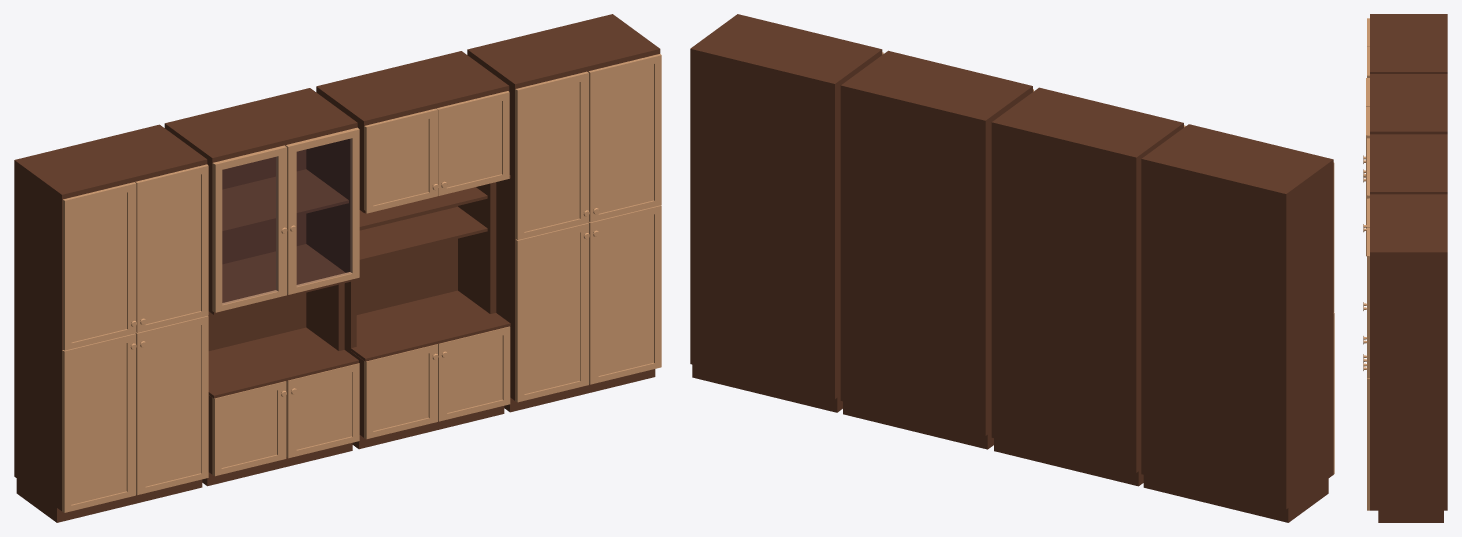
File: Stenka_type1.FBX
3 renders of one model, left to right at view 1: azimuth 30°, elevation 25°; view 2: azimuth 150°, elevation 25°; view 3: azimuth 270°, elevation 25°, orthographic. The views are drawn at different scales.
Visible parts, largest first — view 1: Skaf_stenka_type2_008, Skaf_stenka_type2_002, Skaf_stenka_type2_007, Skaf_stenka_type2_009, Book_shelf_type1_015, Book_shelf_type1_011, Book_shelf_type1_040, Book_shelf_type1_043, Book_shelf_type1_013, Book_shelf_type1_017, Book_shelf_type1_041, Book_shelf_type1_042 (+13 smaller); view 2: Skaf_stenka_type2_008, Skaf_stenka_type2_007, Skaf_stenka_type2_009, Skaf_stenka_type2_002; view 3: Skaf_stenka_type2_009, Skaf_stenka_type2_002, Skaf_stenka_type2_007, Skaf_stenka_type2_008, Book_shelf_type1_041, Book_shelf_type1_040, Book_shelf_type1_046, Book_shelf_type1_003.
Boxes of the visible parts, bbox=[...] form: Skaf_stenka_type2_008: bbox=[14, 124, 207, 522]; Skaf_stenka_type2_002: bbox=[164, 88, 357, 486]; Skaf_stenka_type2_007: bbox=[316, 51, 509, 449]; Skaf_stenka_type2_009: bbox=[467, 14, 660, 412]; Book_shelf_type1_015: bbox=[515, 223, 589, 402]; Book_shelf_type1_011: bbox=[62, 333, 136, 512]; Book_shelf_type1_040: bbox=[589, 205, 661, 384]; Book_shelf_type1_043: bbox=[135, 316, 208, 495]; Book_shelf_type1_013: bbox=[62, 182, 136, 350]; Book_shelf_type1_017: bbox=[515, 71, 589, 239]; Book_shelf_type1_041: bbox=[588, 54, 661, 222]; Book_shelf_type1_042: bbox=[135, 164, 208, 332]; Skaf_stenka_type2_008: bbox=[1141, 124, 1333, 522]; Skaf_stenka_type2_007: bbox=[840, 50, 1032, 449]; Skaf_stenka_type2_009: bbox=[690, 14, 882, 412]; Skaf_stenka_type2_002: bbox=[991, 87, 1183, 486]; Skaf_stenka_type2_009: bbox=[1370, 194, 1447, 522]; Skaf_stenka_type2_002: bbox=[1370, 74, 1447, 134]; Skaf_stenka_type2_007: bbox=[1370, 134, 1447, 194]; Skaf_stenka_type2_008: bbox=[1370, 14, 1447, 73]; Book_shelf_type1_041: bbox=[1363, 227, 1369, 378]; Book_shelf_type1_040: bbox=[1363, 358, 1369, 510]; Book_shelf_type1_046: bbox=[1363, 107, 1369, 256]; Book_shelf_type1_003: bbox=[1363, 78, 1369, 173].
Bounding box in the file's own units: 1046 × 554 × 157.
